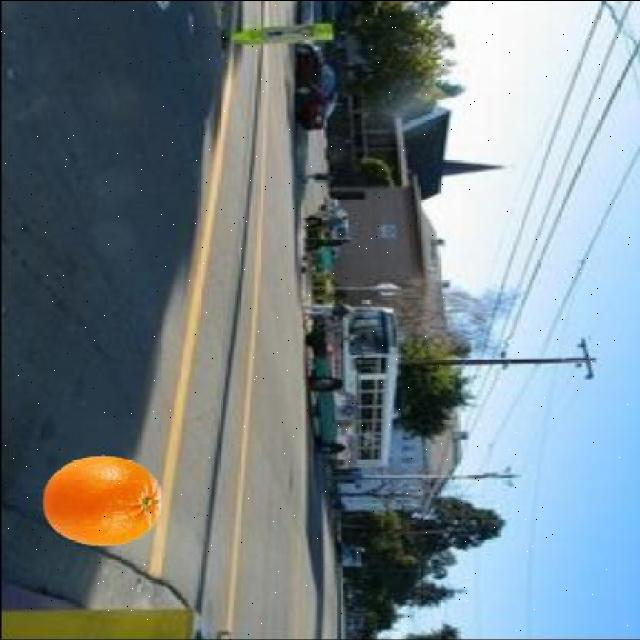Orange: (40, 454, 162, 548)
